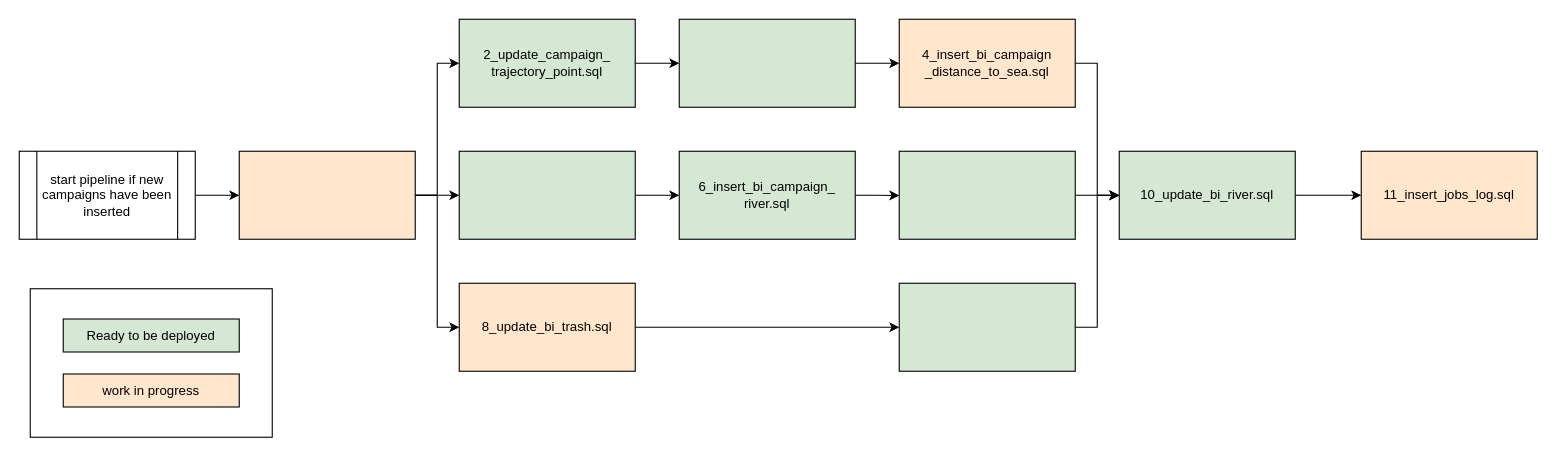
The diagram is 1557 pixels wide and 457 high, and some of its shapes have lost their labels. The centre of each missing label's shape, as x and y in pixels:
"1_get_campaigns_id.sql" belongs at (326,194).
"3_insert_bi_campaign.sql" belongs at (766,62).
"5_insert_bi_trajectory_ point_river.sql" belongs at (546,194).
"7_get_bi_rivers_id.sql" belongs at (986,194).
"9_insert_bi_trash_river.sql" belongs at (986,326).
